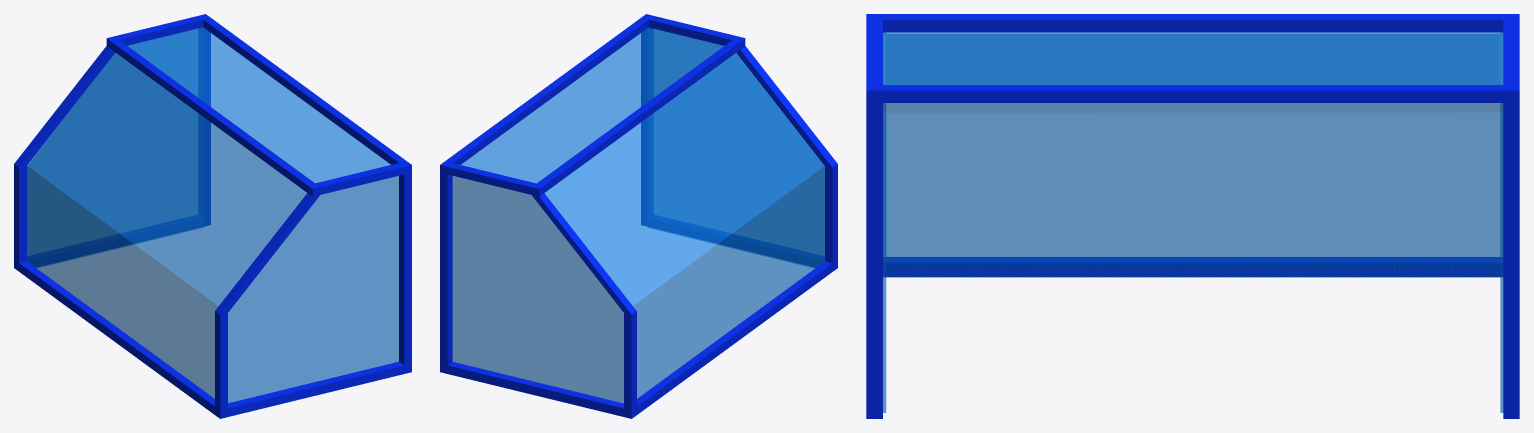
The model's file is goalb.fbx.
3 renders of one model, left to right at view 1: azimuth 30°, elevation 25°; view 2: azimuth 150°, elevation 25°; view 3: azimuth 270°, elevation 25°, orthographic. The views are drawn at different scales.
Parts seen in each view (by area): view 1: Soccer Goal.002; view 2: Soccer Goal.002; view 3: Soccer Goal.002.
Boxes of the visible parts, x1=… form: Soccer Goal.002: x1=14, y1=14, x2=411, y2=418; Soccer Goal.002: x1=440, y1=14, x2=837, y2=418; Soccer Goal.002: x1=866, y1=14, x2=1519, y2=418.
Bounding box in the file's own units: 101 × 104 × 188.
